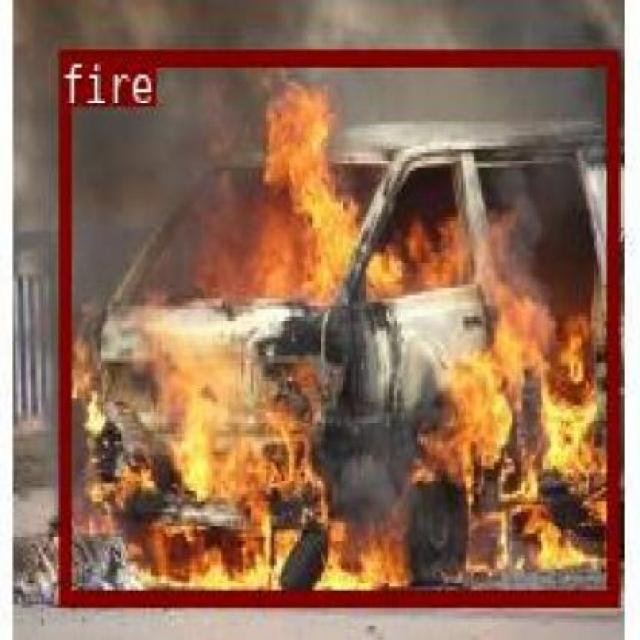fire: (58, 48, 616, 602)
